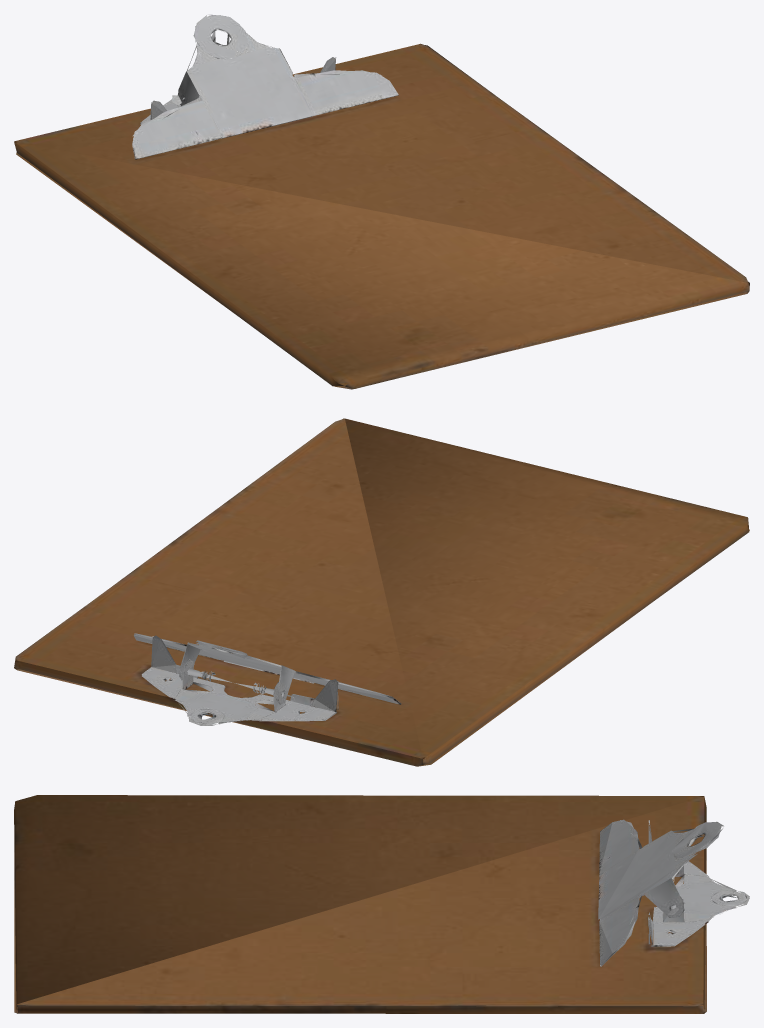
The model's file is clipboard.glb.
3 views of the same model, one above another, from view 1: azimuth 30°, elevation 25°; view 2: azimuth 150°, elevation 25°; view 3: azimuth 270°, elevation 25° (orthographic). The views are drawn at different scales.
Parts seen in each view (by area): view 1: clipboard; view 2: clipboard; view 3: clipboard.
Part boxes in pixels (x1,y1,x2,y2): clipboard: [14, 14, 749, 389]; clipboard: [14, 418, 749, 766]; clipboard: [14, 795, 749, 1013].
Bounding box in the file's own units: 0.2279 × 0.0422 × 0.3361.
1 material, 1 textured.
